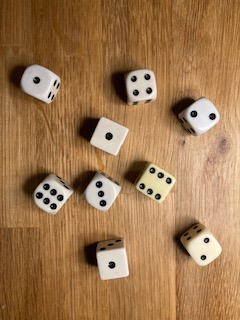four: (122, 68, 159, 106)
one: (16, 62, 62, 105), (86, 115, 130, 159), (93, 236, 131, 281)
six: (30, 171, 76, 217), (131, 161, 178, 205)
three: (81, 169, 124, 215)
two: (176, 220, 224, 267), (175, 94, 222, 138)
